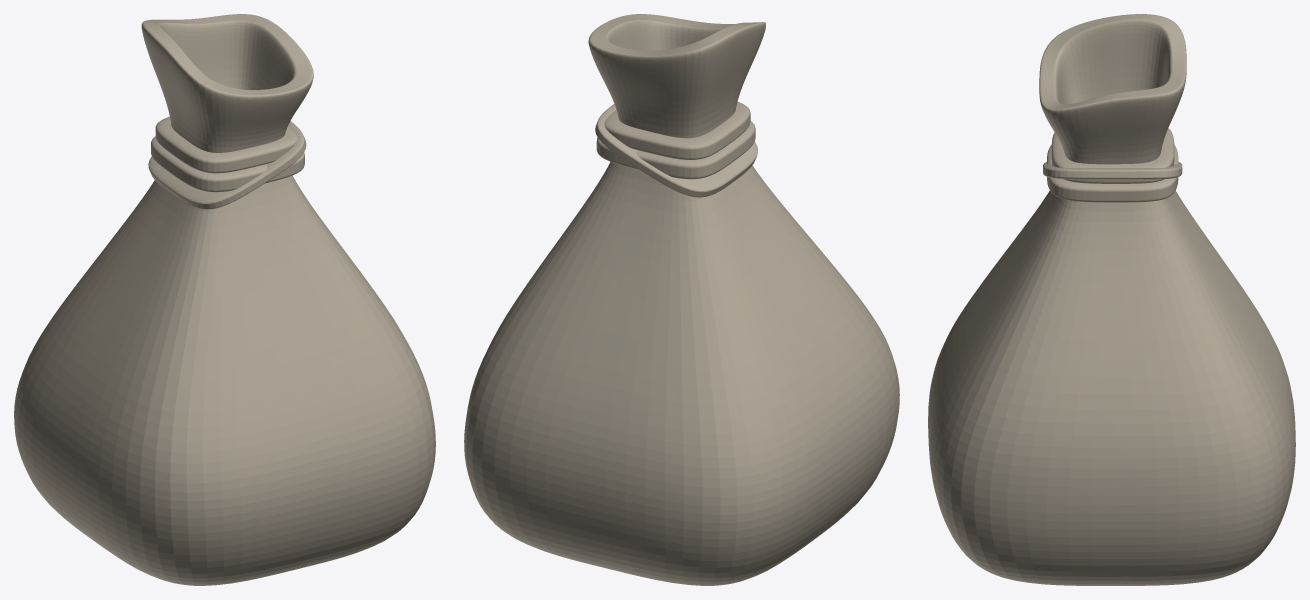
Rendered from мешок.fbx.
3 views of the same model, side by side, from view 1: azimuth 30°, elevation 25°; view 2: azimuth 150°, elevation 25°; view 3: azimuth 270°, elevation 25° (orthographic). The views are drawn at different scales.
Visible parts, largest first — view 1: мешок; view 2: мешок; view 3: мешок.
Boxes of the visible parts, box(x1,y1,x2,y2) form: мешок: box(14, 14, 435, 585); мешок: box(464, 14, 899, 585); мешок: box(928, 14, 1295, 585).
Bounding box in the file's own units: 53.03 × 80.59 × 53.67.
